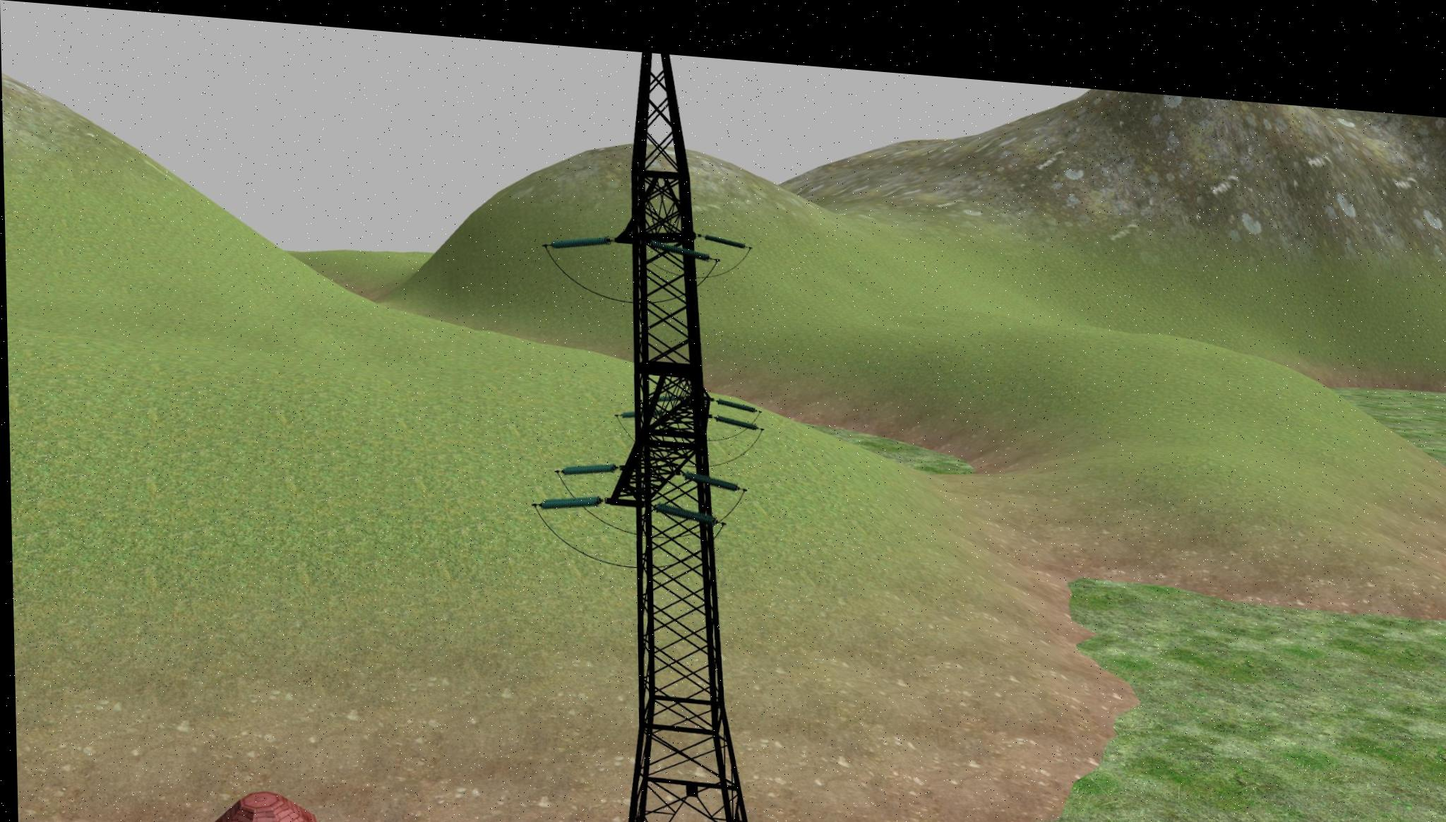tower: (593, 49, 774, 822)
